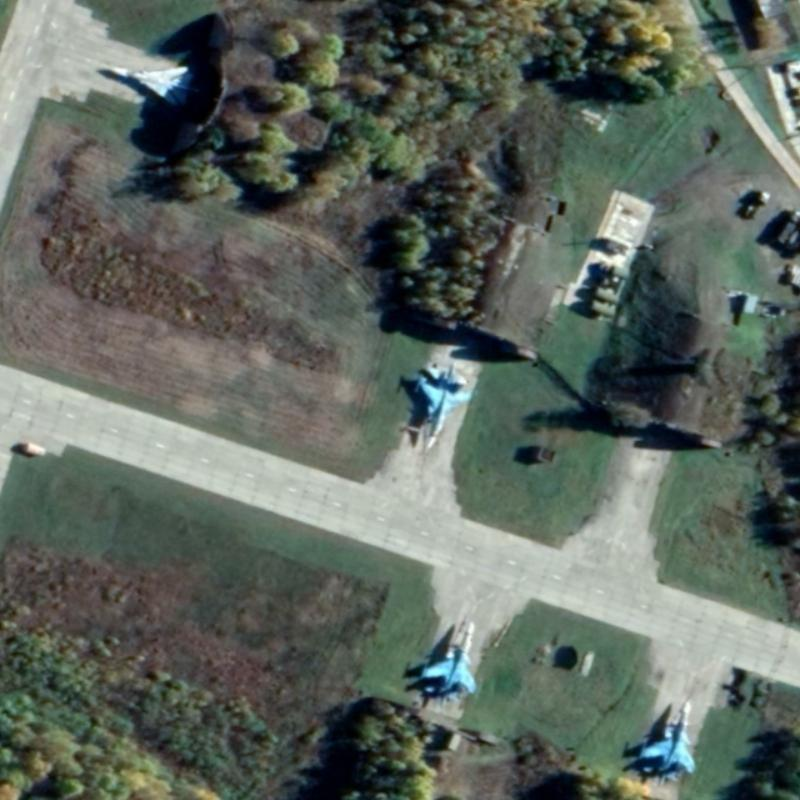A19: (416, 619, 484, 709), (412, 360, 478, 449), (636, 699, 701, 787)
A20: (109, 64, 194, 108)
